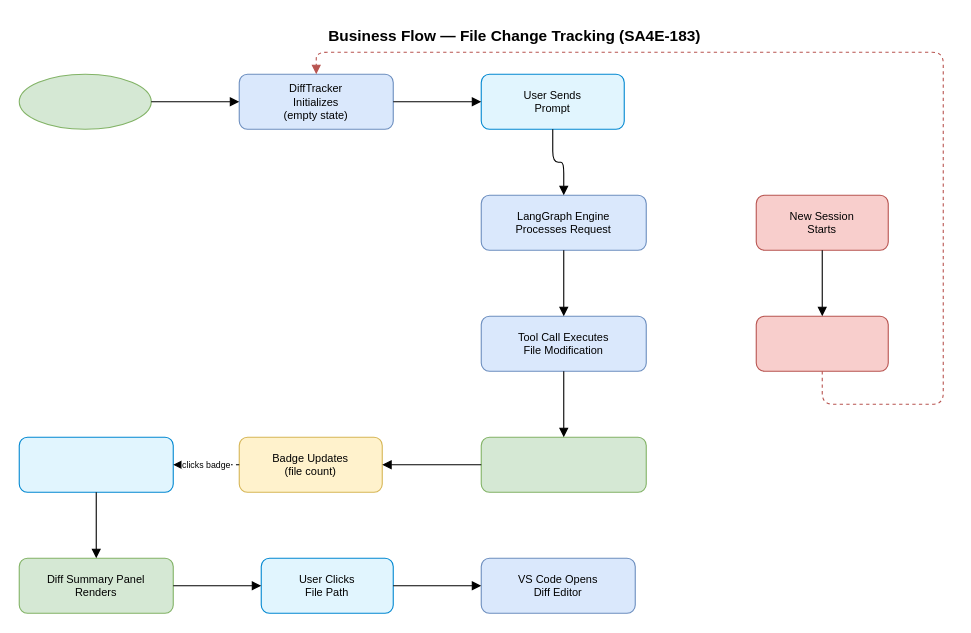
Some shapes in this 971 by 633 pixel diagram are drawn without their labels. Each missing label, with the centre of its shape:
"DiffTracker Records Change Entry" belongs at point (563, 464).
"DiffTracker. clearSession()" belongs at point (821, 343).
"Session Start" belongs at point (84, 101).
"User Invokes /diff Command (or clicks badge)" belongs at point (95, 464).
